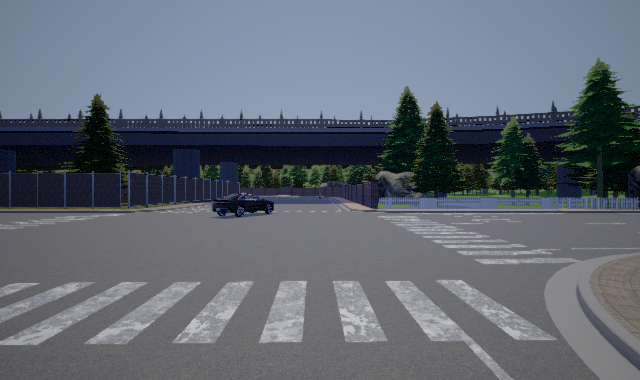vehicle: (212, 194, 274, 217)
